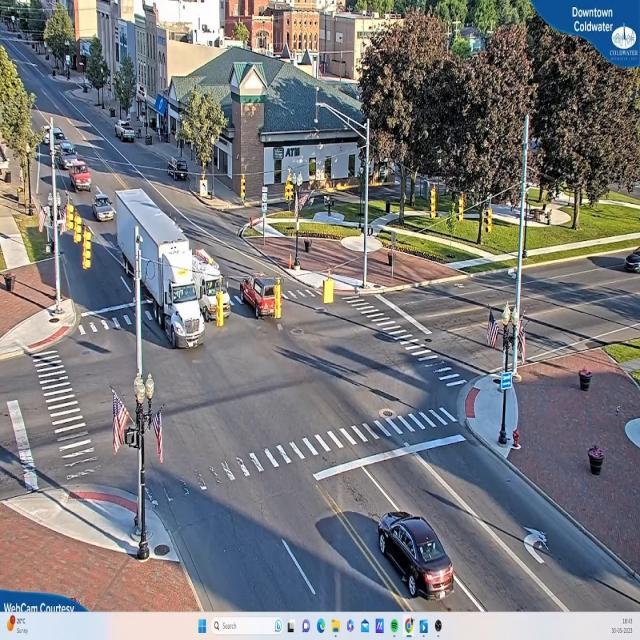car: (378, 511, 456, 601), (241, 269, 276, 319), (92, 199, 116, 222), (73, 165, 94, 190), (117, 122, 137, 144)
truck: (144, 240, 204, 352), (192, 255, 234, 322)
